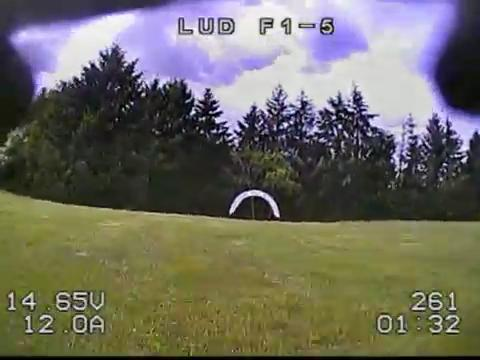gate: (228, 188, 280, 220)
